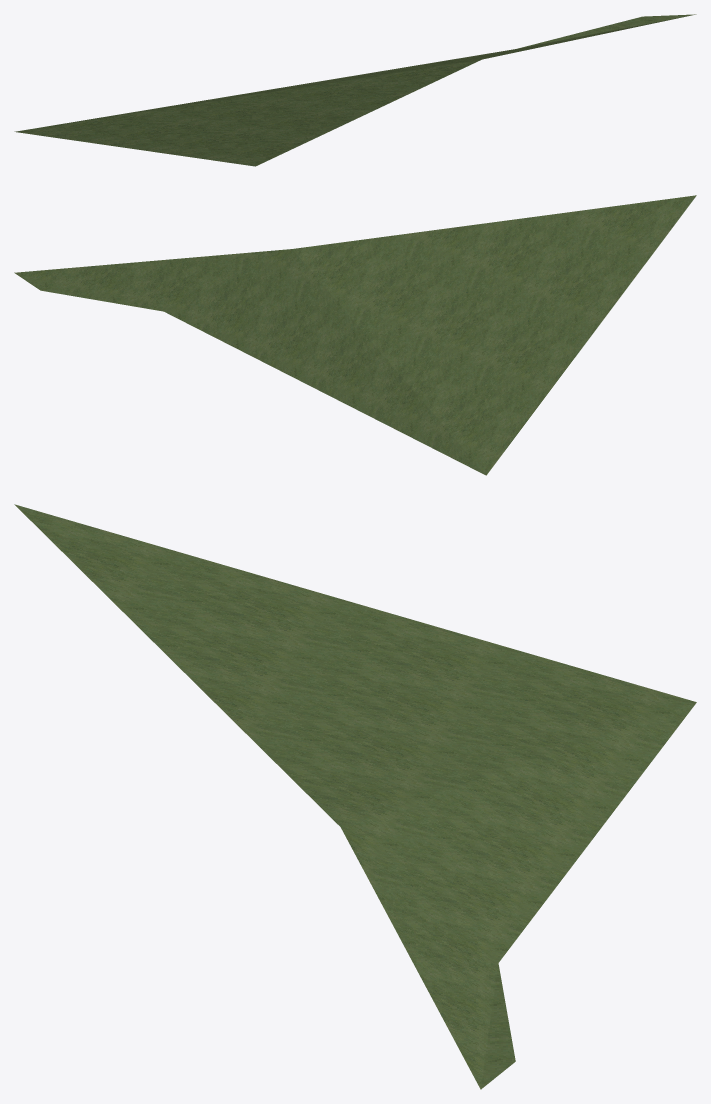
The model's file is LODa_carisle_mid_landmass_02_07.fbx.
3 views of the same model, one above another, from view 1: azimuth 30°, elevation 25°; view 2: azimuth 150°, elevation 25°; view 3: azimuth 270°, elevation 25° (orthographic). The views are drawn at different scales.
Parts seen in each view (by area): view 1: LODa_carisle_mid_landmass_02_07; view 2: LODa_carisle_mid_landmass_02_07; view 3: LODa_carisle_mid_landmass_02_07.
Part boxes in pixels (<box>): LODa_carisle_mid_landmass_02_07: <box>14,14,696,166</box>; LODa_carisle_mid_landmass_02_07: <box>14,195,696,475</box>; LODa_carisle_mid_landmass_02_07: <box>14,504,696,1089</box>.
Size of the model in its own units: 32.31 by 22.05 by 7.11.
Materials: 1 (1 with a texture image).
